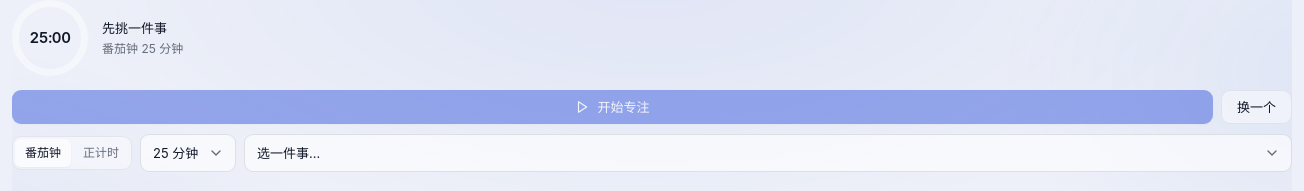
Scenario: FocusTimer › 环里先摆出这一轮要走的时间，改计划时长它跟着变
Expected: the text "25:00" is shown, [30,26,70,50]
Select "45 分钟" in the dropdown named "计划时长" at [188, 153], box [140,134,236,172]
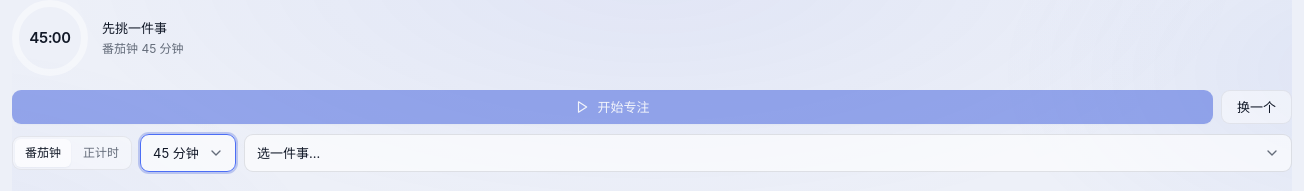
Expected: the text "45:00" is shown, [30,26,70,50]
